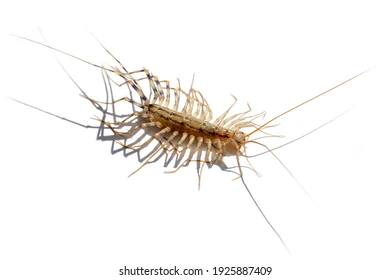centipede: (51, 33, 341, 232)
